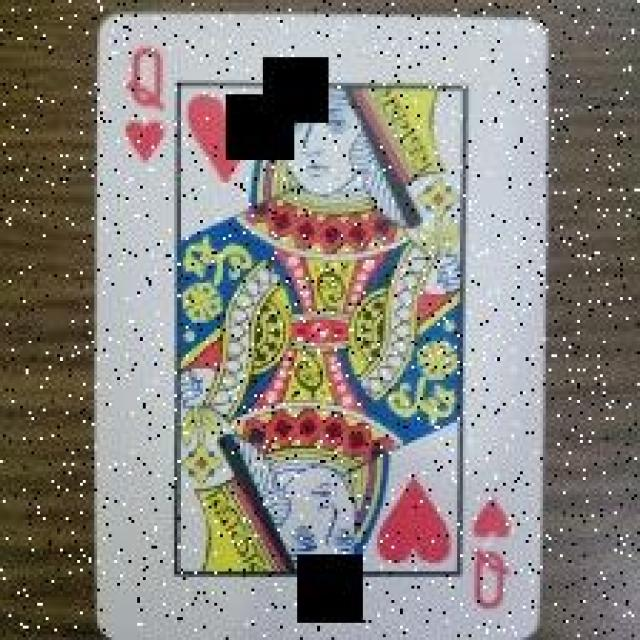Queen of hearts: (95, 15, 544, 640)
